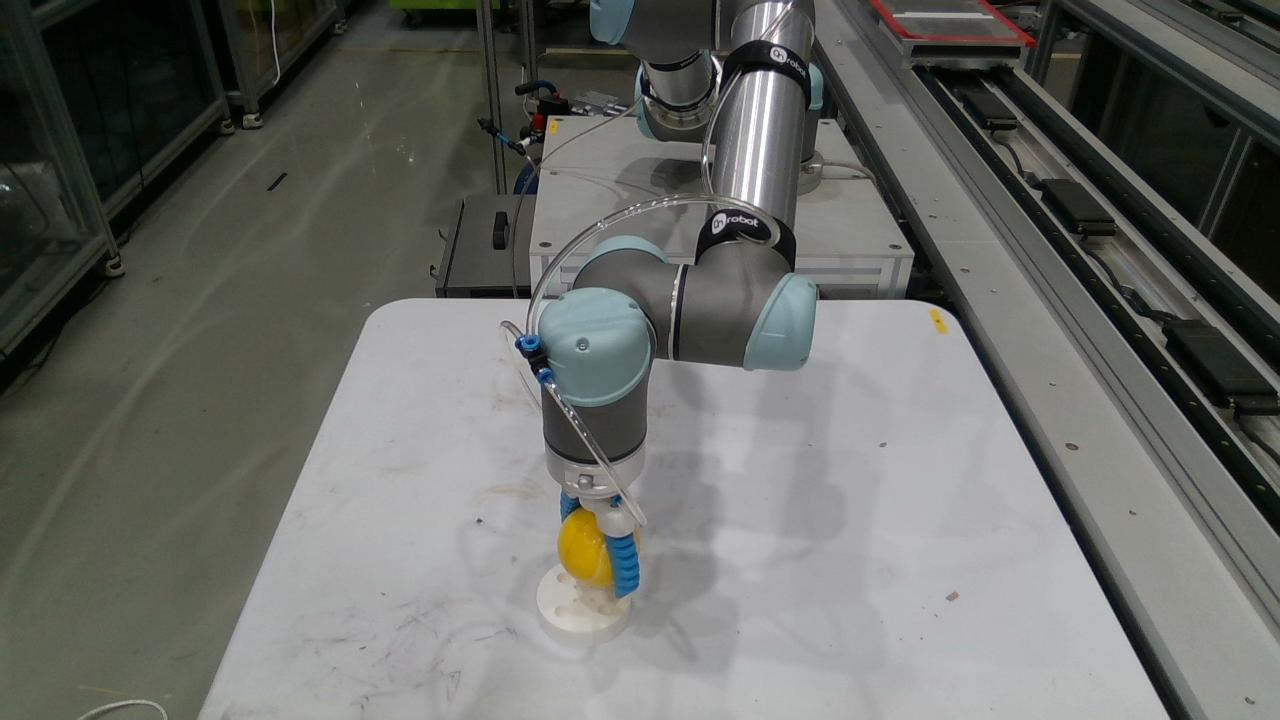UR5: (538, 0, 825, 538)
gripper_left: (559, 491, 582, 522)
gripper_right: (605, 533, 640, 598)
target: (536, 564, 633, 646), (557, 507, 613, 589)
